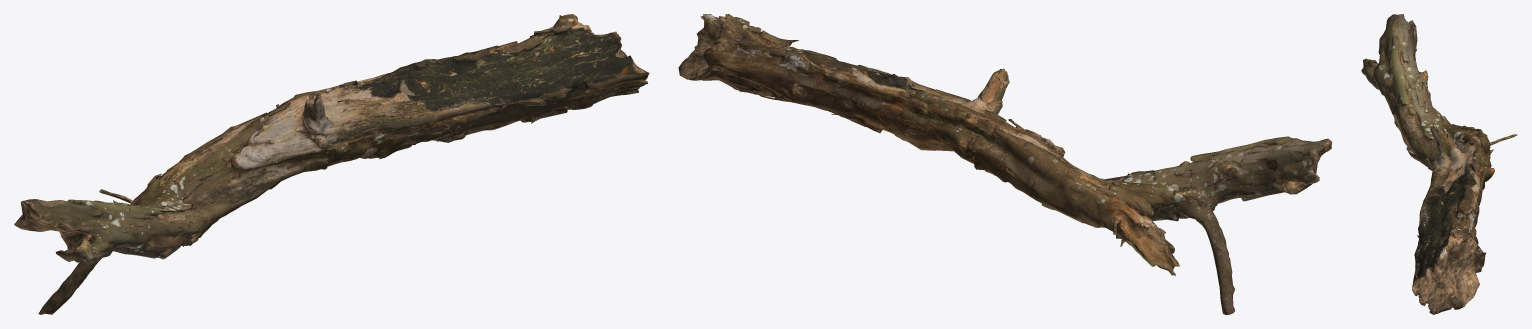
File: dead-tree-trunk-02-lod2.glb
3 views of the same model, side by side, from view 1: azimuth 30°, elevation 25°; view 2: azimuth 150°, elevation 25°; view 3: azimuth 270°, elevation 25° (orthographic). The views are drawn at different scales.
Parts seen in each view (by area): view 1: dead_tree_trunk_02; view 2: dead_tree_trunk_02; view 3: dead_tree_trunk_02.
Boxes of the visible parts, x1,y1,x2,y2 form: dead_tree_trunk_02: [14, 14, 649, 314]; dead_tree_trunk_02: [678, 14, 1332, 314]; dead_tree_trunk_02: [1361, 14, 1517, 314].
Bounding box in the file's own units: 4.05 × 1.06 × 1.06.
1 material, 1 textured.
